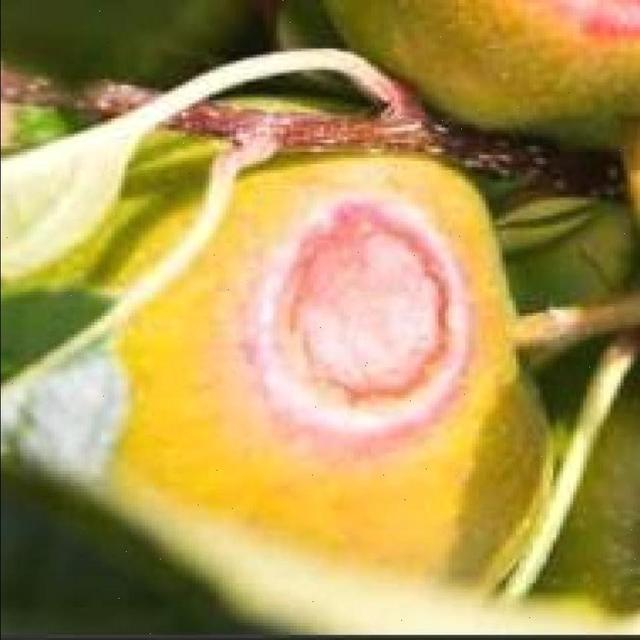Sunscald Fruit: (165, 118, 320, 300)
